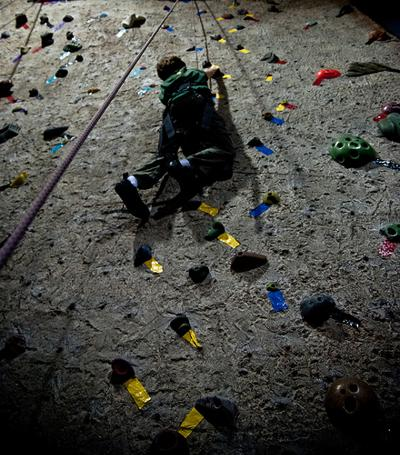person: (115, 52, 235, 220)
